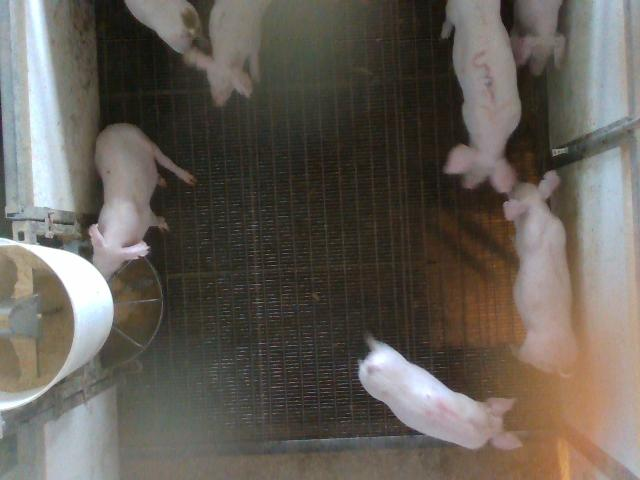pig-3: (441, 0, 521, 192)
pig-4: (359, 335, 506, 449)
